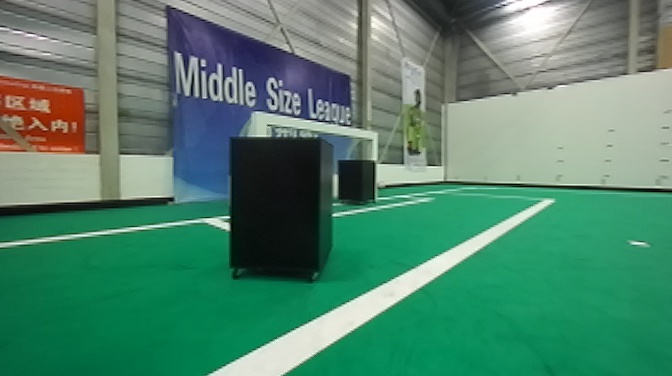goalpost: (365, 134, 380, 204), (250, 110, 270, 140)
